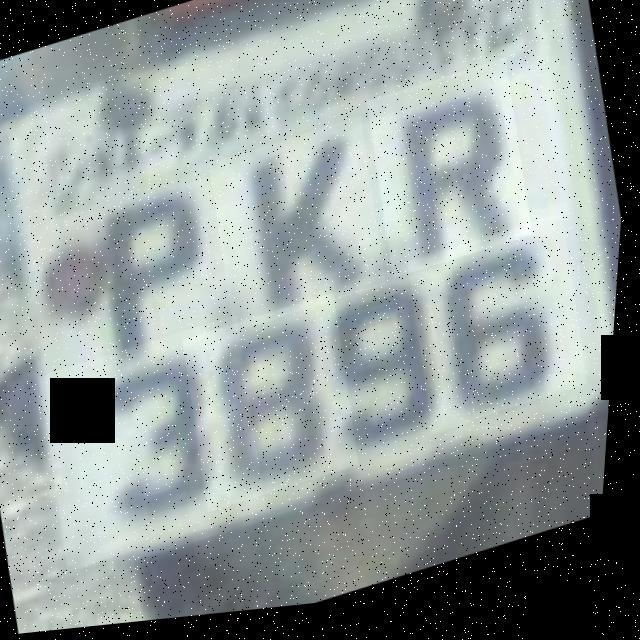3: (33, 316, 284, 577)
6: (402, 222, 603, 446)
8: (178, 297, 375, 520)
9: (291, 255, 490, 483)
K: (202, 121, 399, 340)
P: (48, 168, 239, 392)
R: (360, 65, 546, 290)
